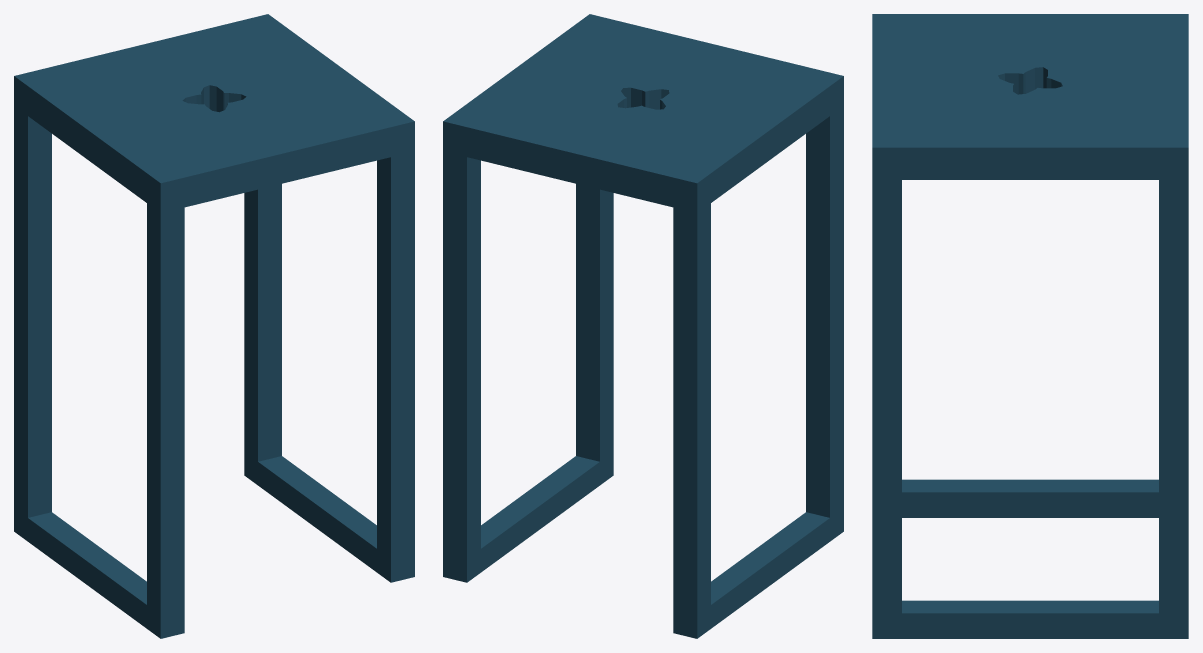
Rendered from Stool.glb.
3 renders of one model, left to right at view 1: azimuth 30°, elevation 25°; view 2: azimuth 150°, elevation 25°; view 3: azimuth 270°, elevation 25°, orthographic. The views are drawn at different scales.
Visible parts, largest first — view 1: Chair1; view 2: Chair1; view 3: Chair1.
Boxes of the visible parts, x1,y1,x2,y2 form: Chair1: (14, 14, 414, 638); Chair1: (443, 14, 843, 638); Chair1: (872, 14, 1188, 638).
Size of the model in its own units: 0.3485 by 0.5971 by 0.3485.
1 material, 1 textured.
